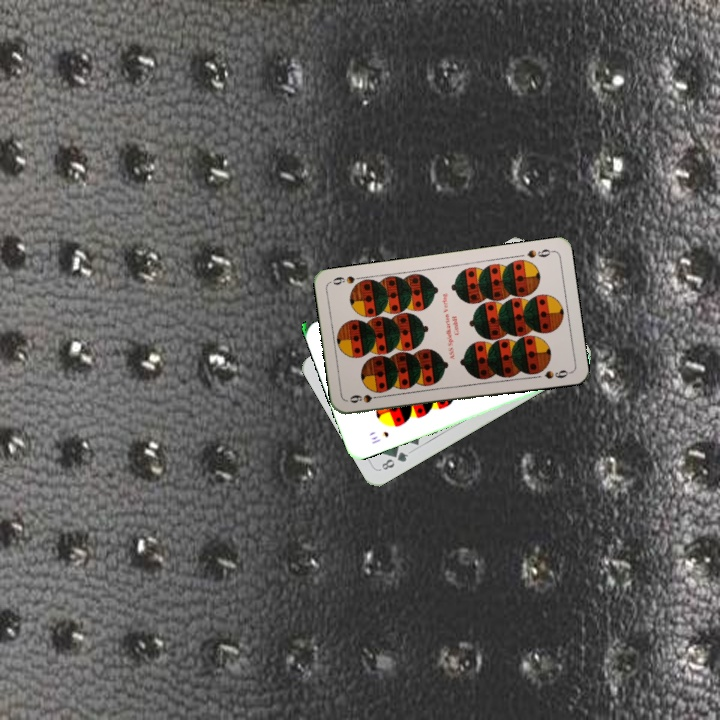G8: (377, 448, 411, 473)
S10: (367, 427, 391, 447)
S9: (346, 390, 385, 406), (523, 245, 556, 260)
